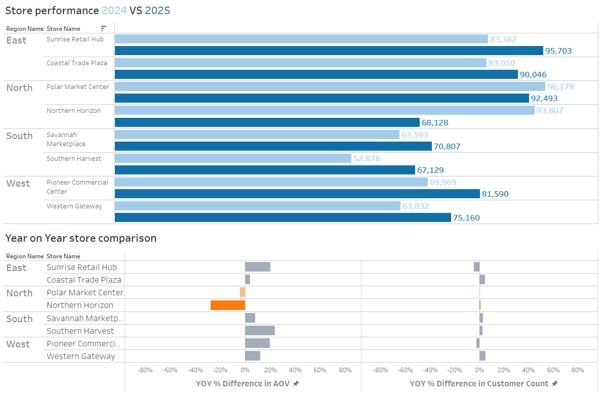

The dashboard page shown, as its layout file describes it:
{"tool":"tableau","page":{"name":"store_dashboard","canvas":[1200,800],"ordinal":2},"visuals":[{"type":"worksheet","title":"Regions","mark":"Bar","rows":["region_name","store_name","transaction_datetime"],"cols":["total_revenue"],"box":[8,8,1184,450]},{"type":"worksheet","title":"Store AOV YOY","mark":"Bar","rows":["region_name","store_name","transaction_datetime"],"cols":["total_revenue","total_cost"],"box":[8,458,1184,334]}]}

Visuals, with their boxes in screenshot pixels (x1, y1, x2, y2), scaled from the page's 1200x800 canvas onto the 605x399 screenshot:
"Regions" worksheet (Bar marks): <region>4, 4, 601, 228</region>
"Store AOV YOY" worksheet (Bar marks): <region>4, 228, 601, 395</region>
